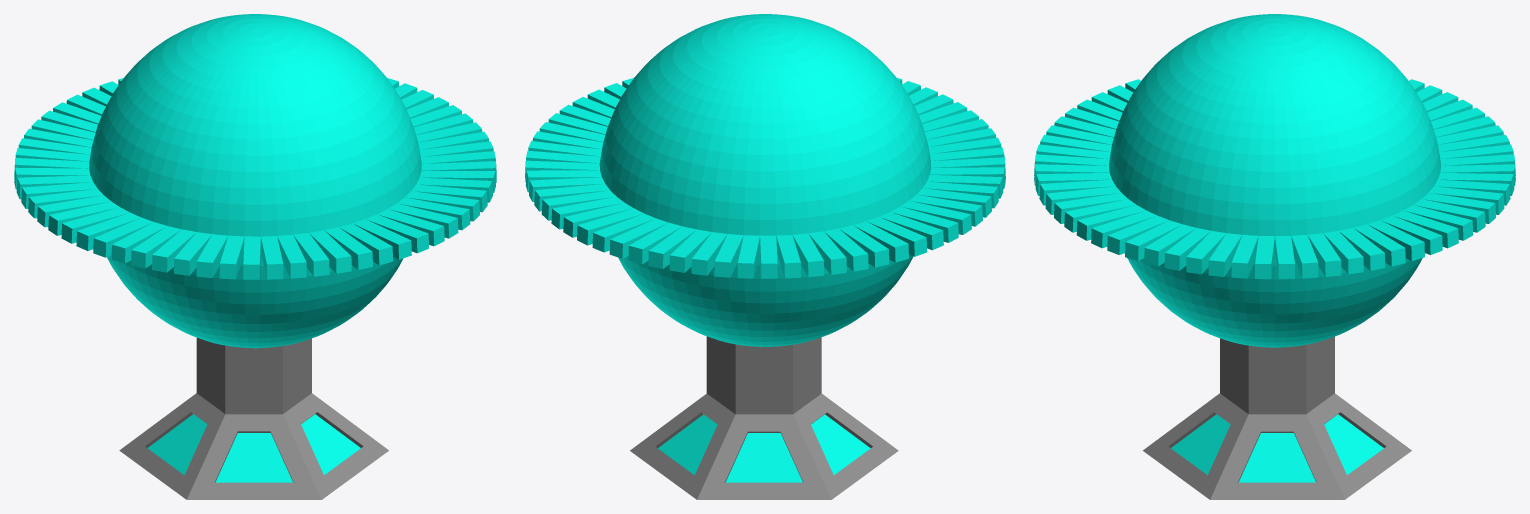
The model's file is CyborgFacility_Generator_003.fbx.
3 views of the same model, side by side, from view 1: azimuth 30°, elevation 25°; view 2: azimuth 150°, elevation 25°; view 3: azimuth 270°, elevation 25° (orthographic).
Visible parts, largest first — view 1: Sphere.002; view 2: Sphere.002; view 3: Sphere.002.
Part boxes in pixels (x1=…): Sphere.002: x1=14, y1=14, x2=496, y2=499; Sphere.002: x1=525, y1=14, x2=1005, y2=499; Sphere.002: x1=1034, y1=14, x2=1515, y2=499.
Bounding box in the file's own units: 837 × 837 × 807.
1 material, 1 textured.
